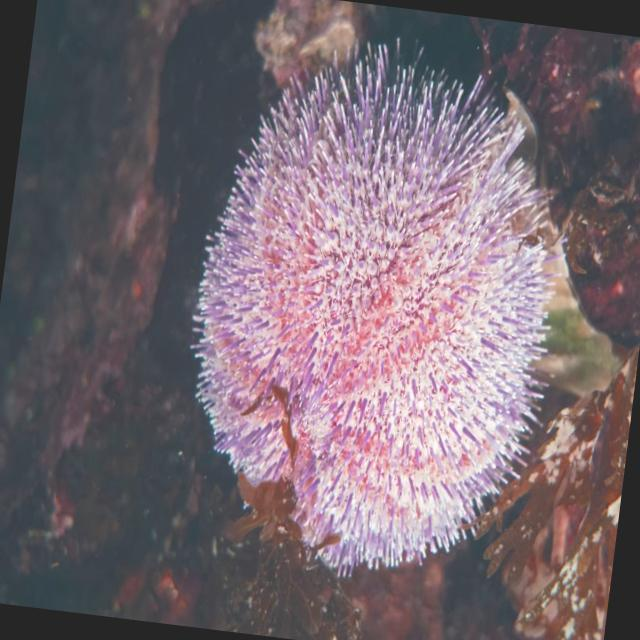Deniz Kestanesi: (163, 17, 589, 600)
